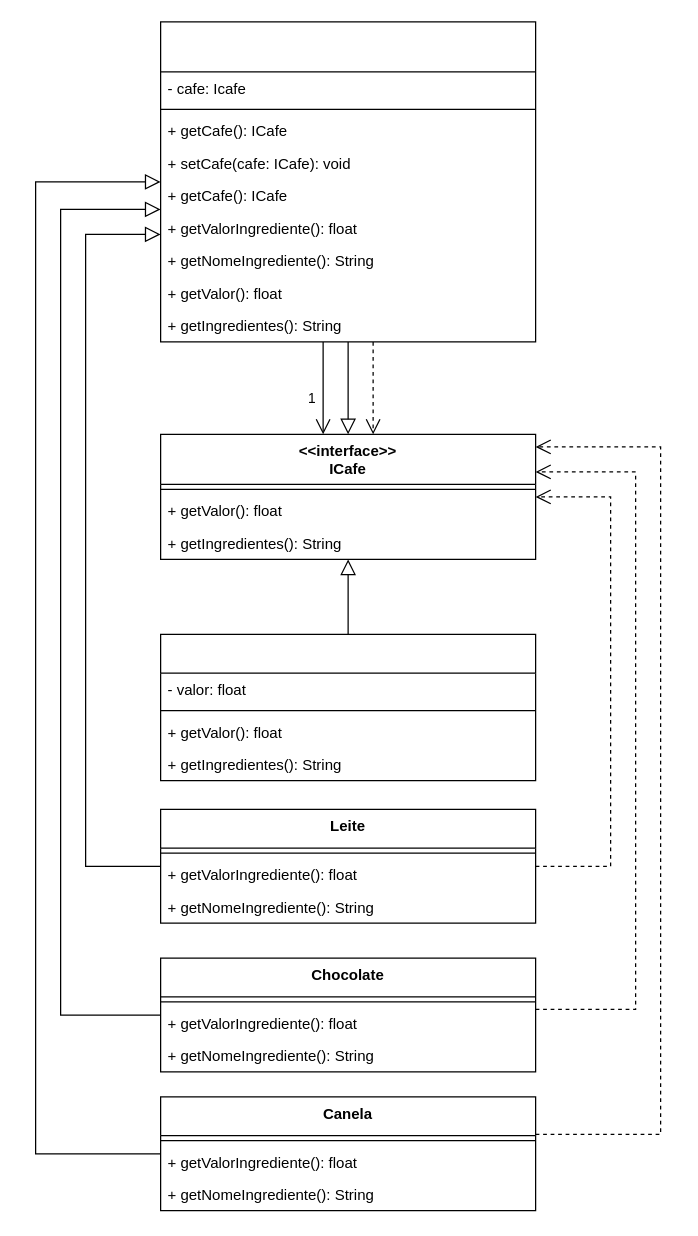
Image size: 698x1236. Some labels were removed from this diagram. The box of each missing label's shape, as (x1, y1, x2, y2) in pixels:
<<abstract>> CafeDecorator: (159, 21, 536, 342)
CafePreto: (159, 633, 536, 781)
